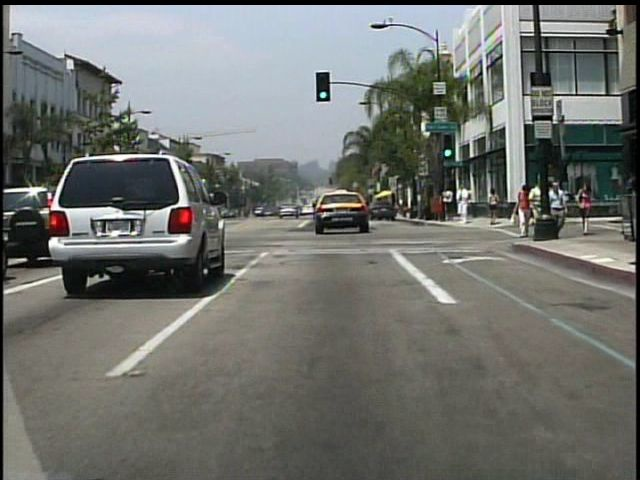person: (511, 182, 536, 240), (527, 180, 548, 240), (549, 181, 569, 227), (543, 180, 560, 231), (574, 182, 591, 233), (486, 188, 501, 227), (523, 189, 537, 229), (458, 185, 471, 225), (442, 183, 453, 221)
